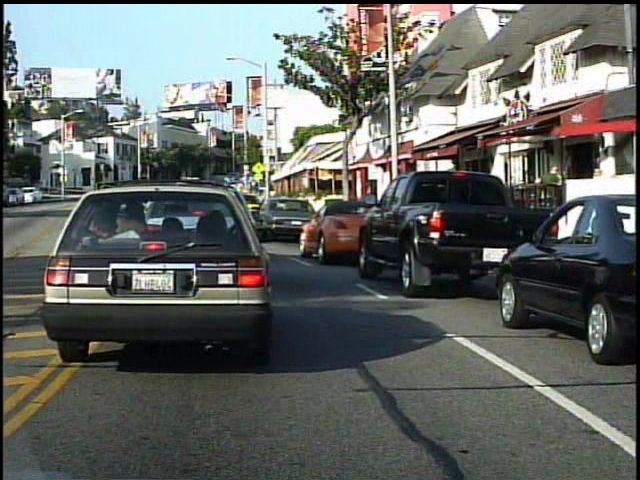person: (538, 161, 565, 229)
